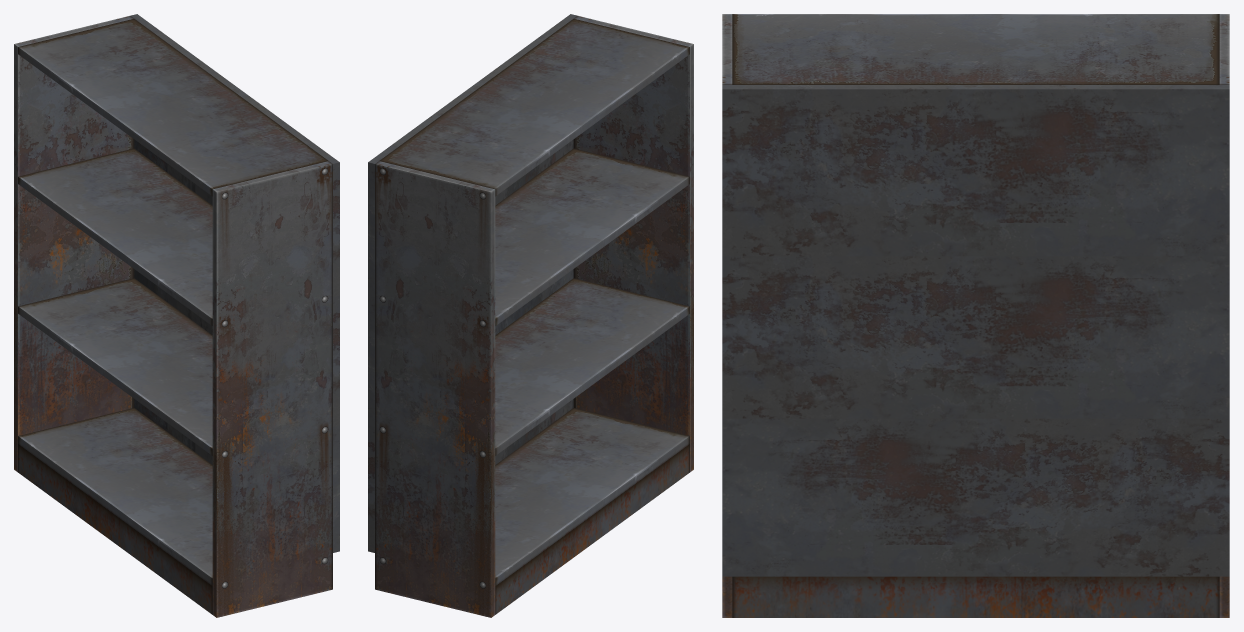
The model's file is metalShelf03_B.fbx.
3 renders of one model, left to right at view 1: azimuth 30°, elevation 25°; view 2: azimuth 150°, elevation 25°; view 3: azimuth 270°, elevation 25°, orthographic. The views are drawn at different scales.
Parts seen in each view (by area): view 1: metalShelf03_B; view 2: metalShelf03_B; view 3: metalShelf03_B.
Part boxes in pixels (x1,y1,x2,y2): metalShelf03_B: (14, 14, 339, 617); metalShelf03_B: (368, 14, 693, 617); metalShelf03_B: (722, 14, 1229, 617).
Size of the model in its own units: 53 by 175 by 151.
